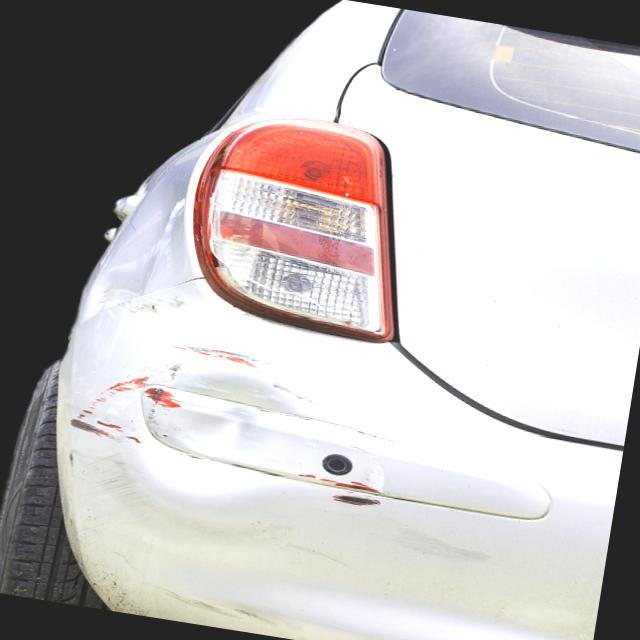Cabossage: (110, 343, 336, 530), (83, 118, 214, 325)
Rayure: (148, 326, 344, 416), (51, 355, 188, 453), (270, 461, 401, 518)
